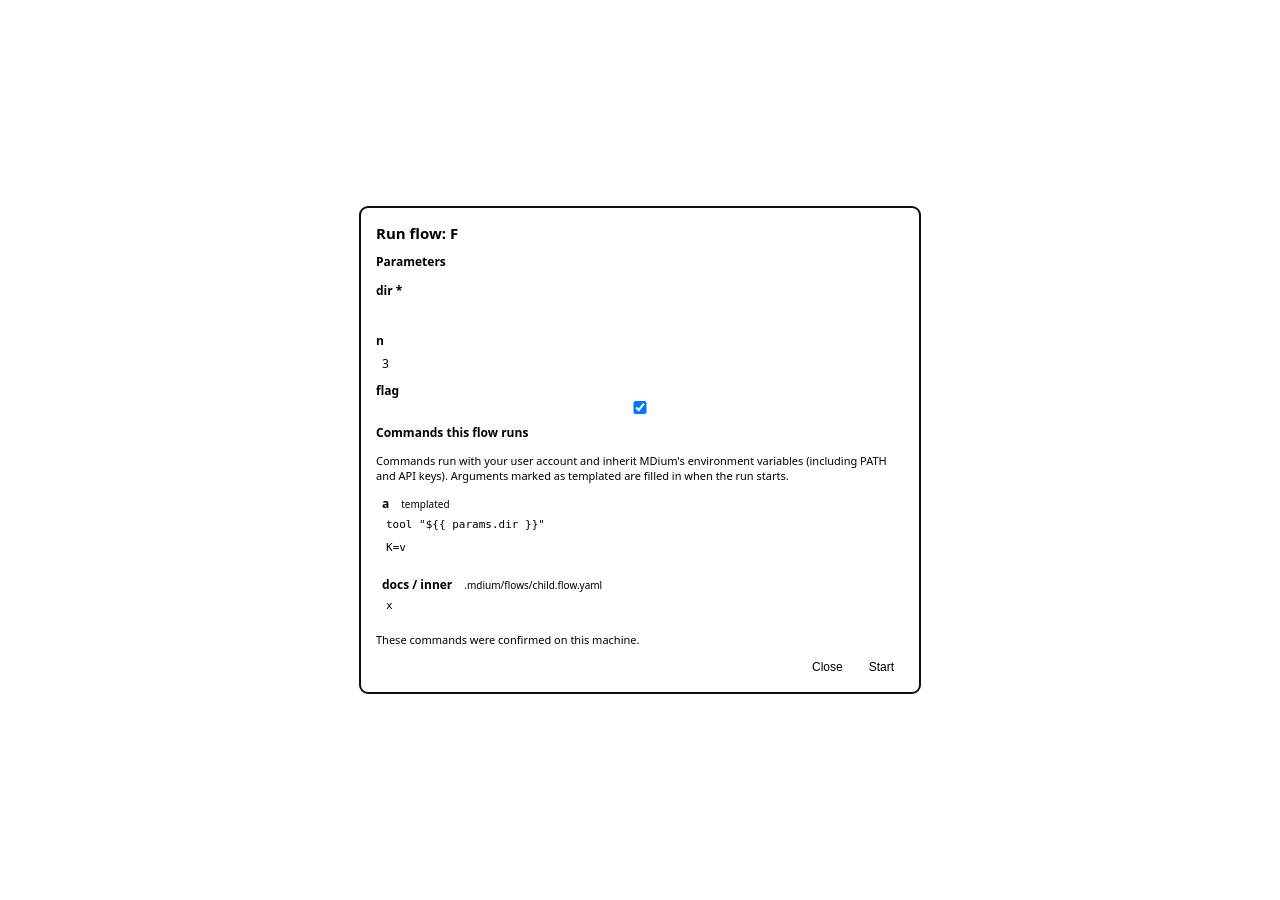
Test case: run views › shows start errors with details
Step 1. Click the button "Start" → (881, 667), box [859, 657, 904, 677]
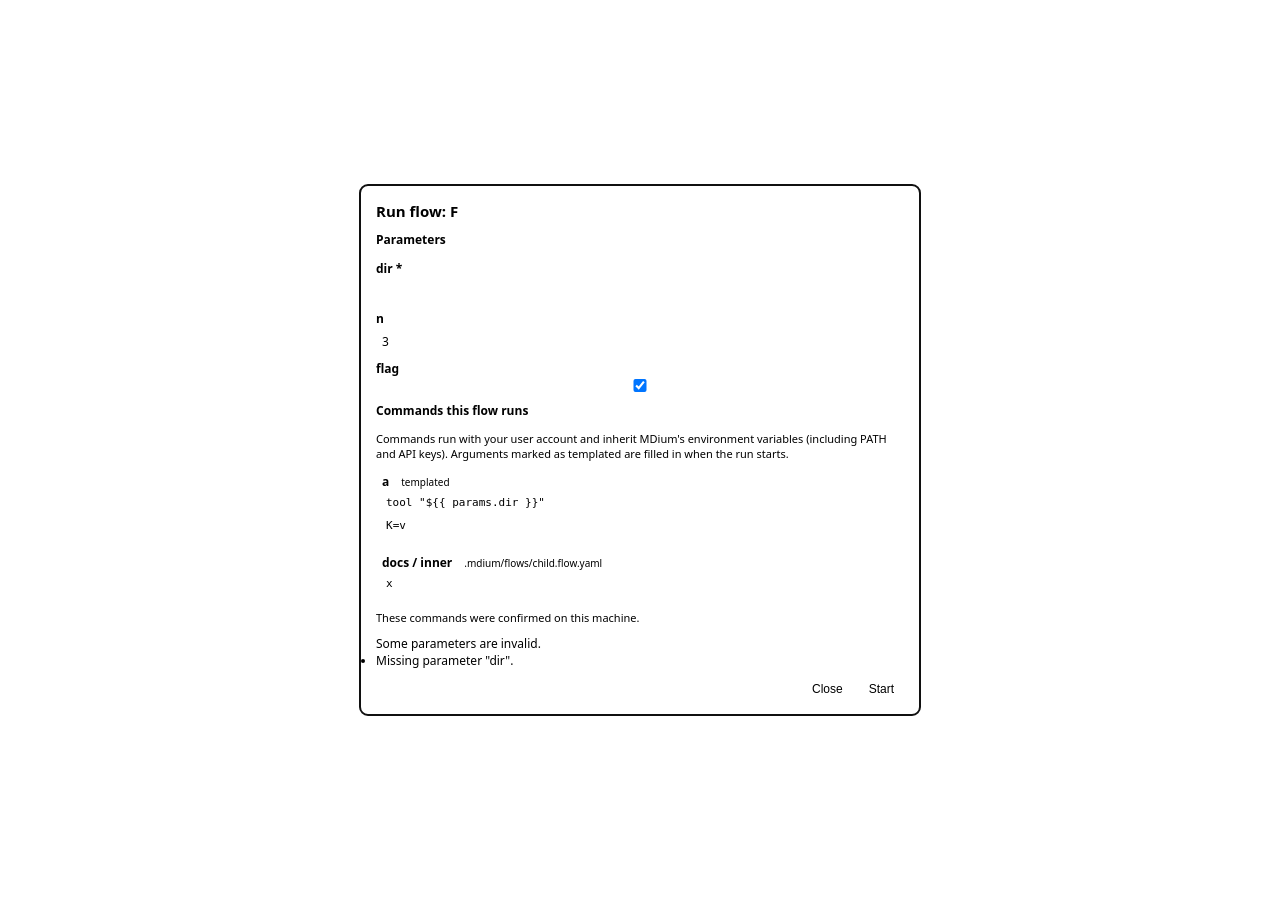
Now the text "Some parameters are invalid." is shown, box [376, 635, 541, 652]
Now the text "Missing parameter \"dir\"." is shown, box [376, 652, 513, 669]
